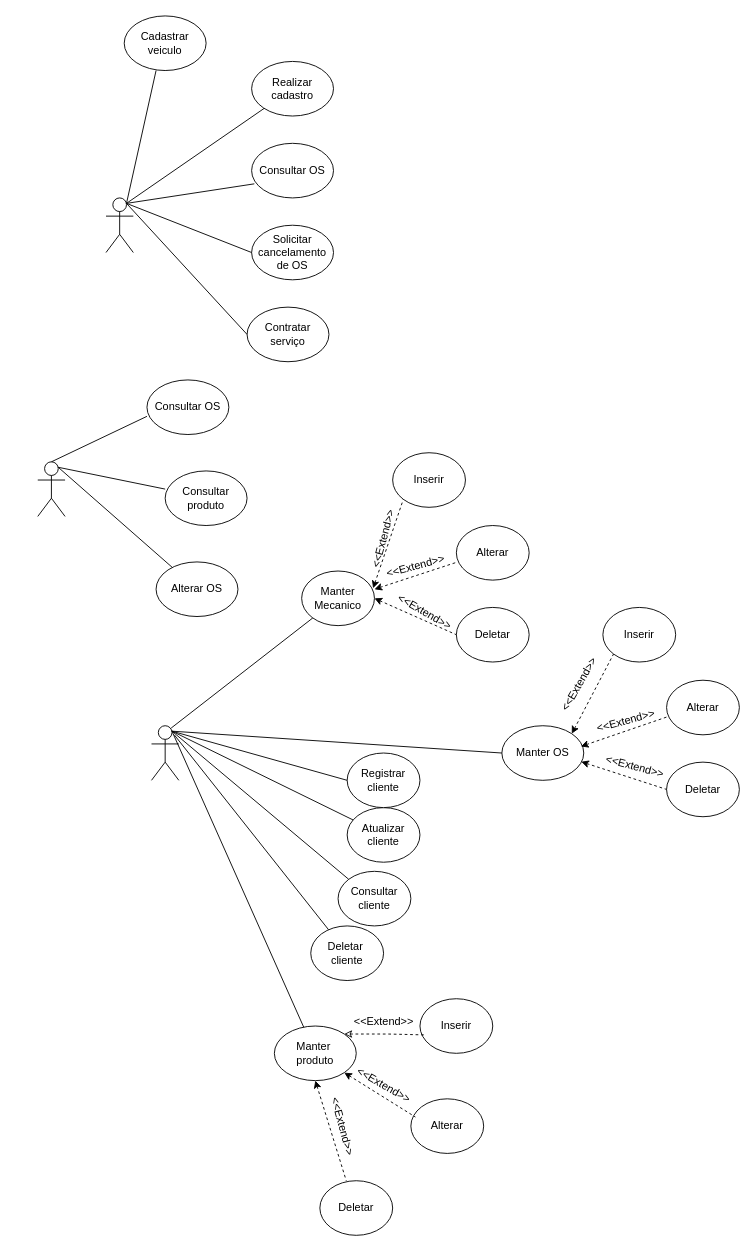
The diagram is 755 pixels wide and 1251 high, and some of its shapes have lost their labels. Here are the shapes that lost their labels. From the top down, the centre of each, then its label:
At pixel 119 225: "<<Cliente>>".
At pixel 51 488: "<<Mecanico>>".
At pixel 165 752: "<<Admin>>".
